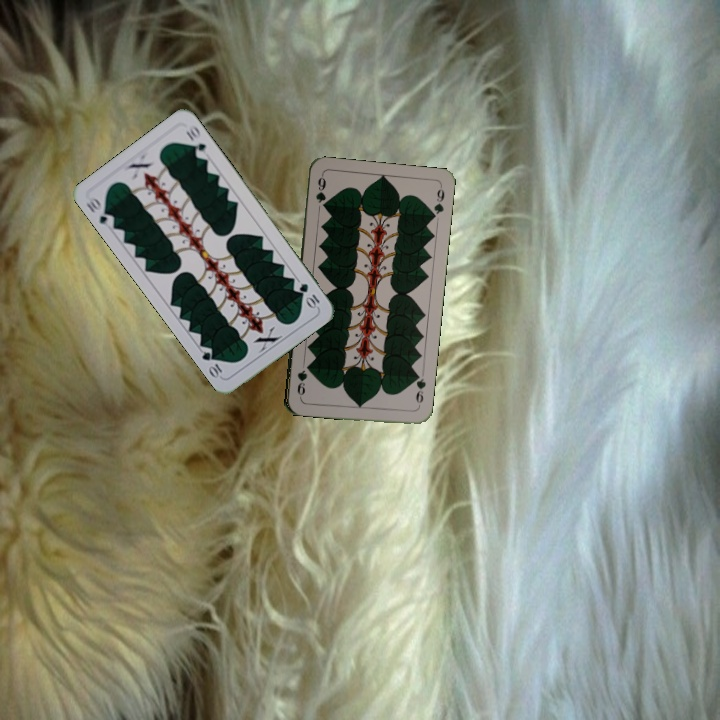G10: (81, 194, 117, 230), (295, 279, 322, 311)
G9: (411, 370, 429, 411), (312, 171, 328, 205)
